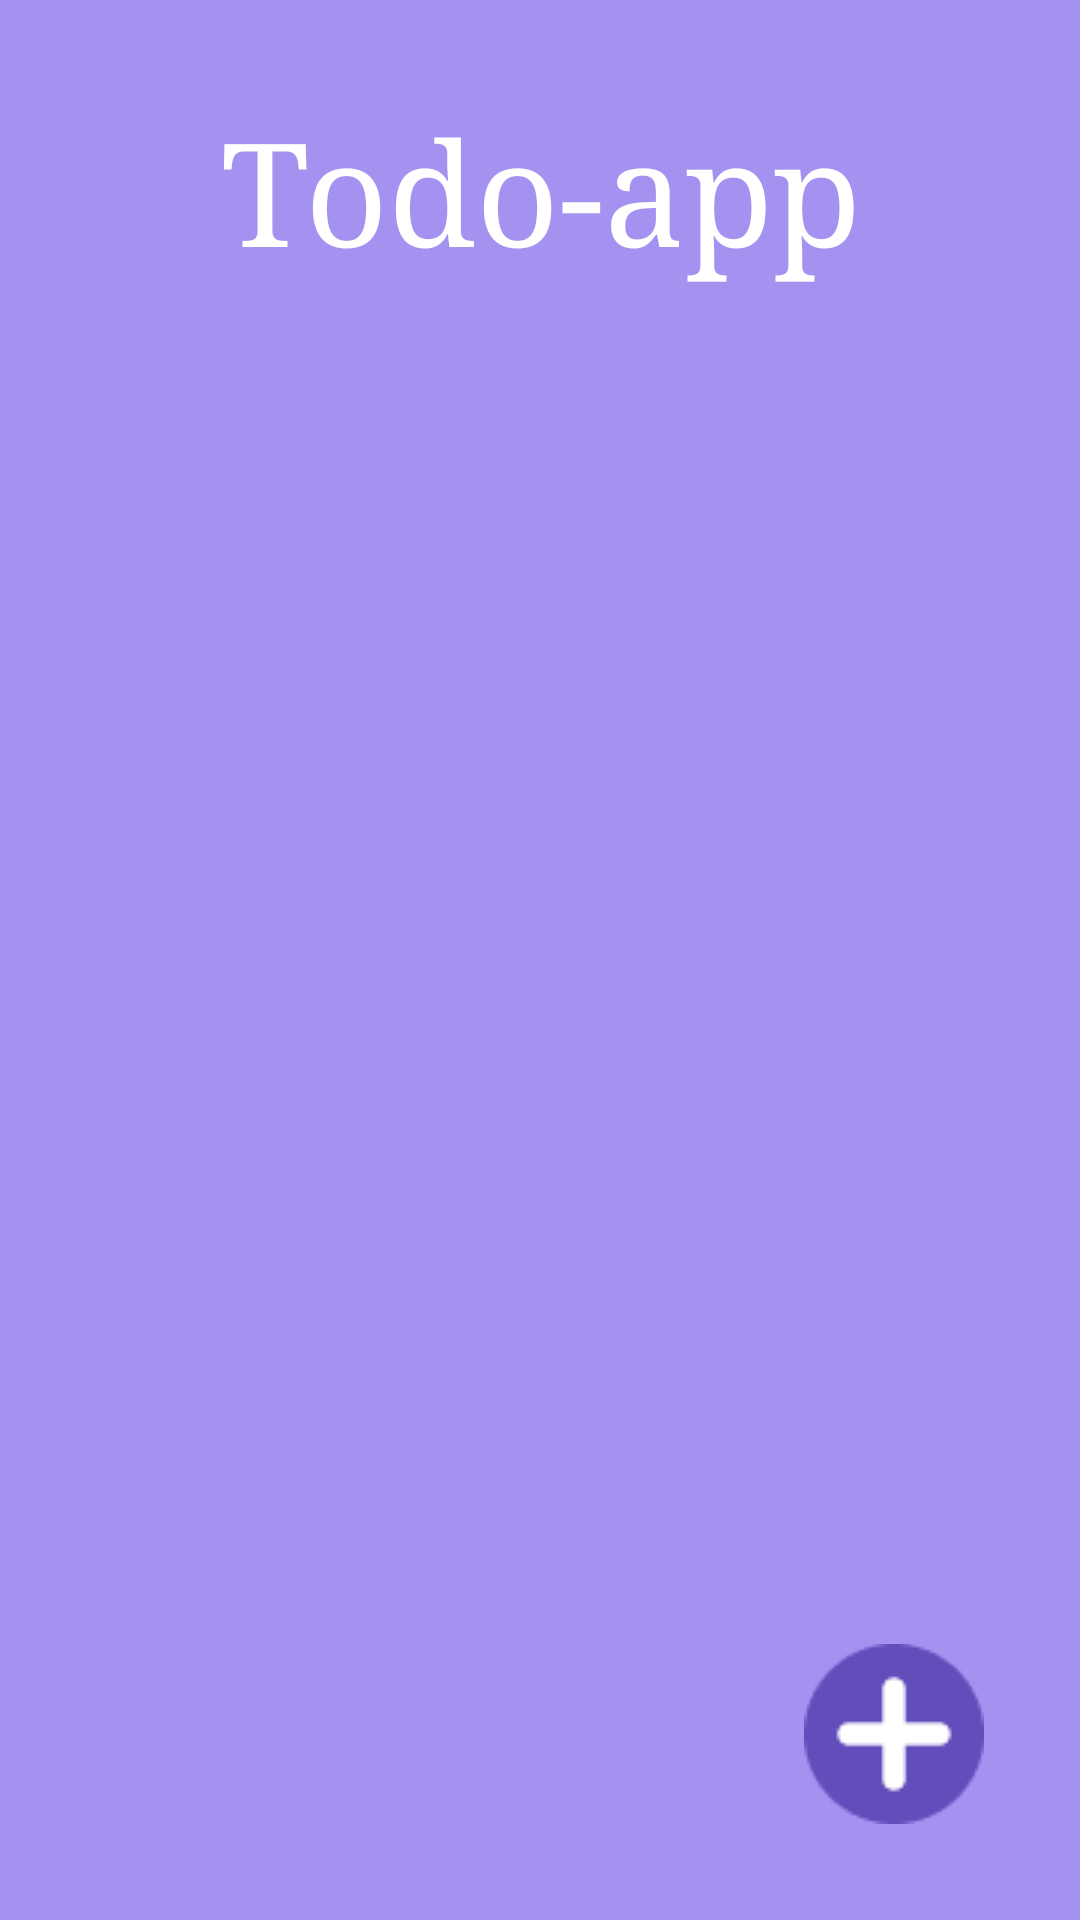

Locate icon controls on the screen. Image size 1080*1920, boxes as bbox(x1, y1, x2, y2).
add: bbox(804, 1644, 984, 1824)
